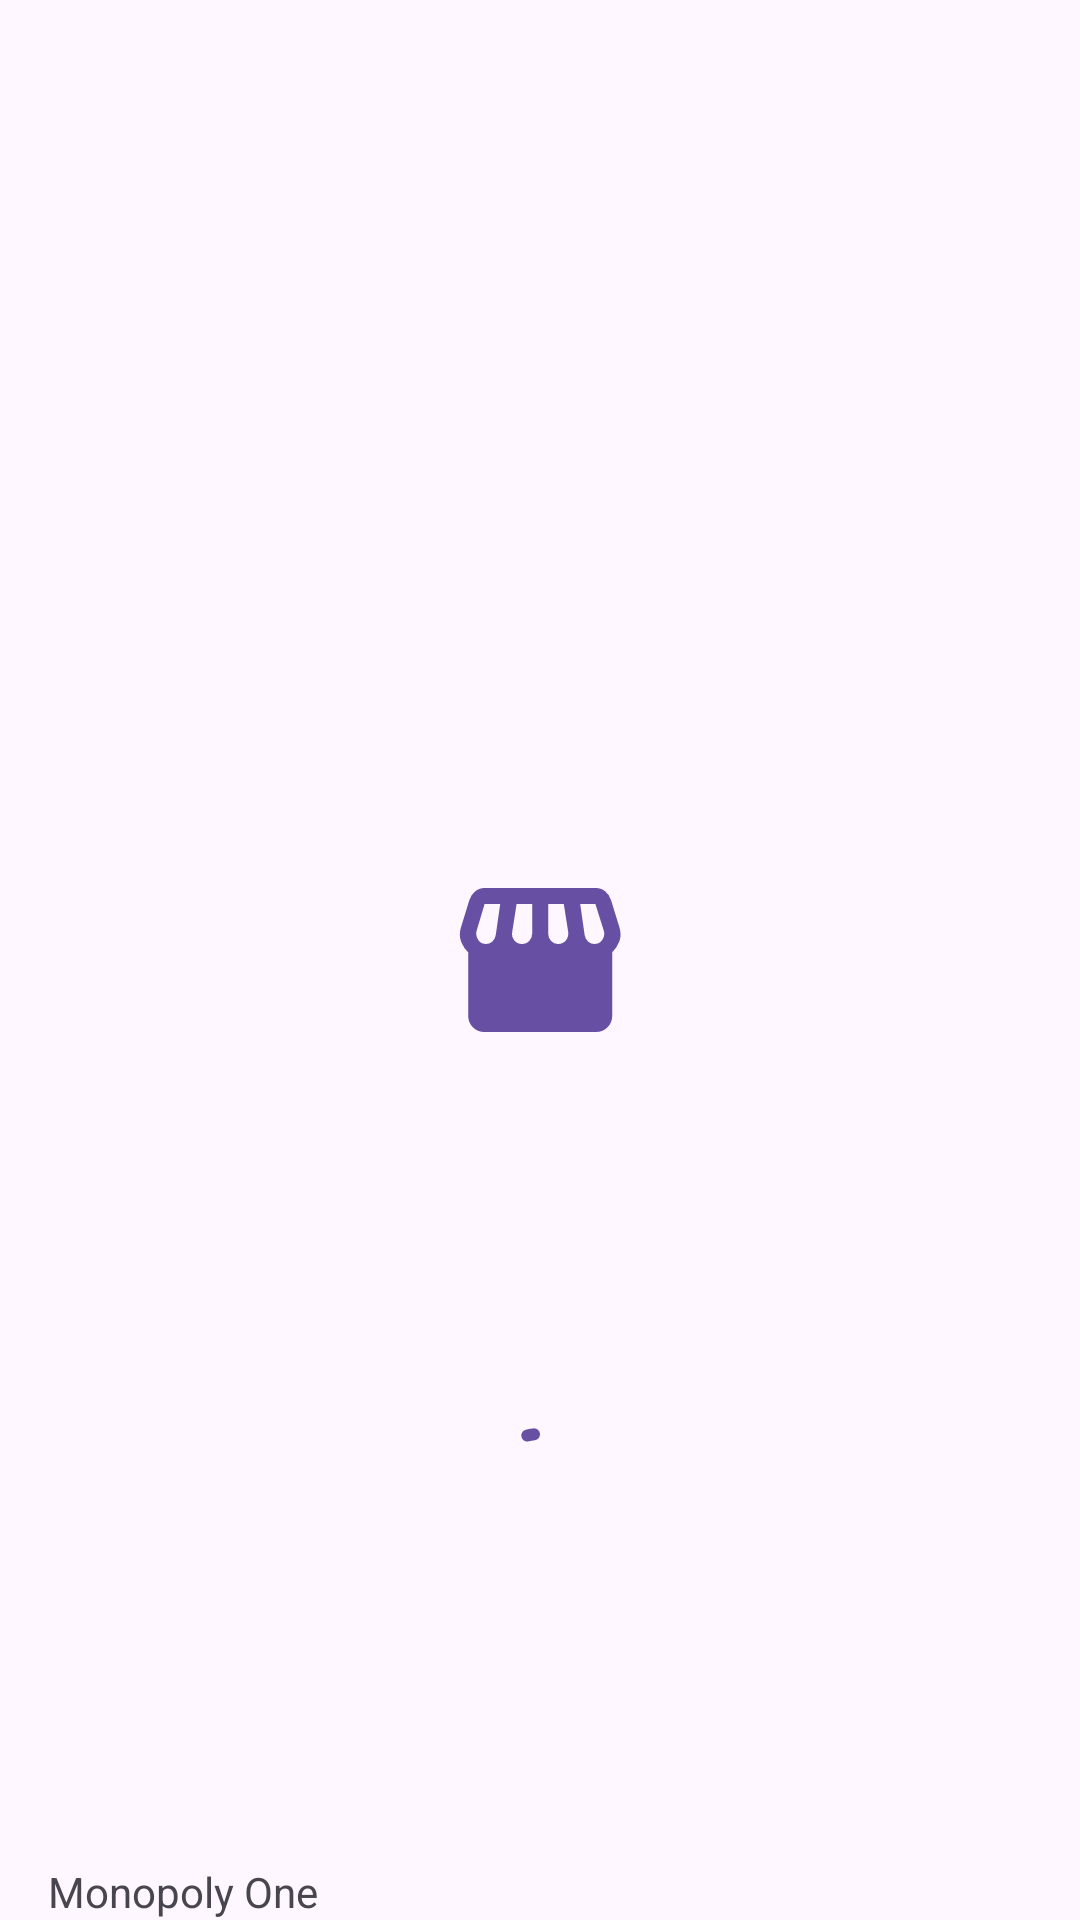

Named icons in this screenshot (1080x1920) and their bounding boxes, BBox(x1, y1, x2, y2):
storefront: BBox(459, 888, 621, 1032)
